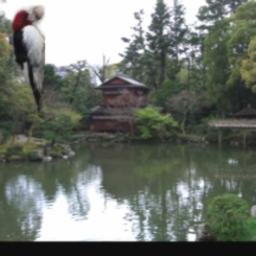Woodpecker: (12, 6, 45, 118)
